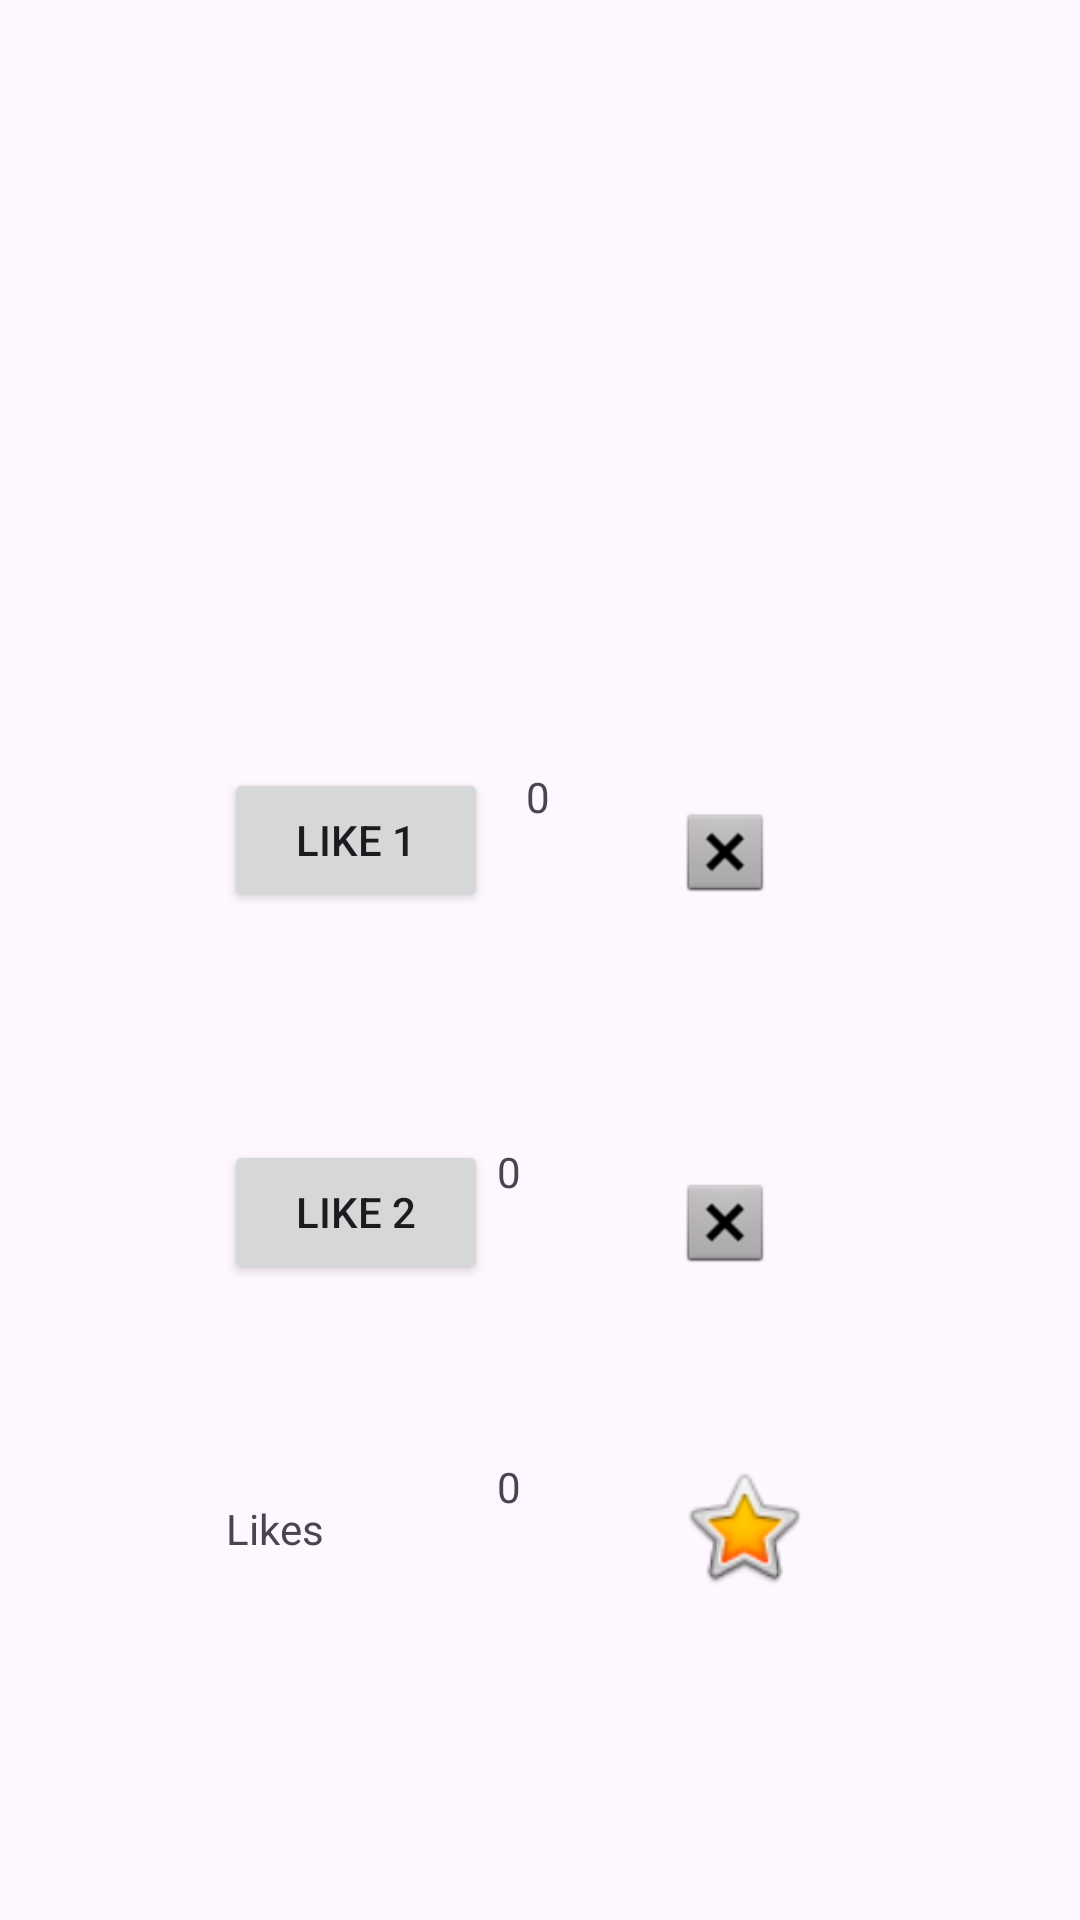

Screen size 1080x1920. Icon name, then its center in pixels as point (x, y):
star on: point (744, 1528)
